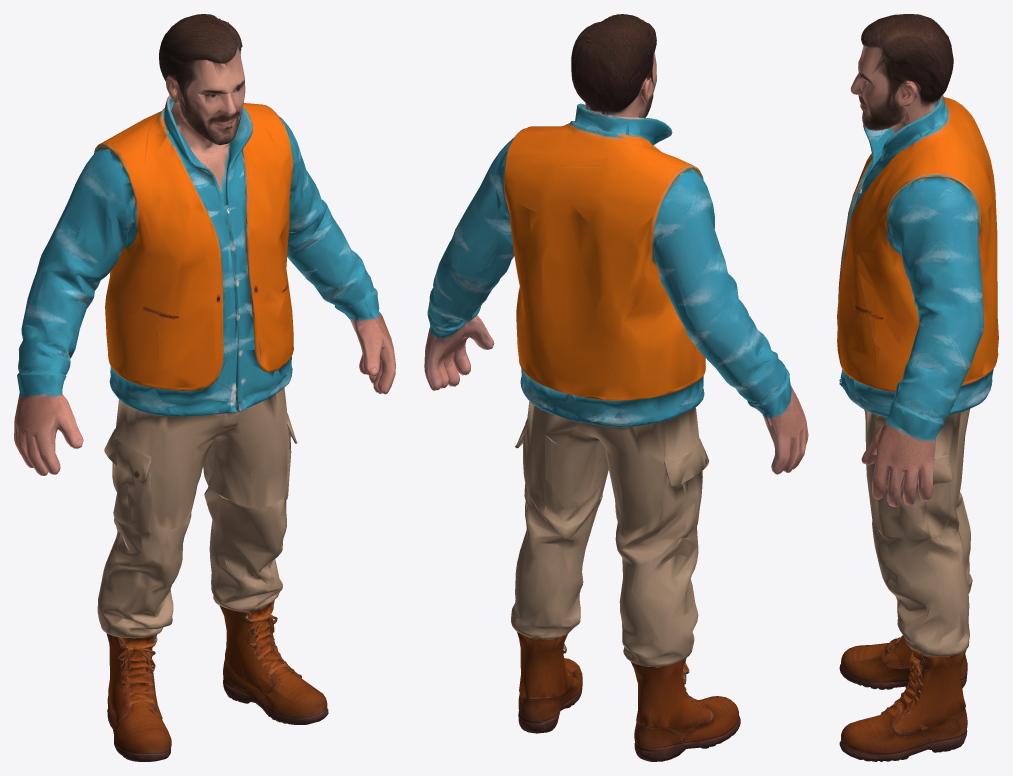
File: hunter-angler-blazevest.glb
The picture shows the model from 3 angles, left to right: view 1: azimuth 30°, elevation 25°; view 2: azimuth 150°, elevation 25°; view 3: azimuth 270°, elevation 25°; orthographic projection.
Size of the model in its own units: 1.09 by 2 by 0.42.
1 material, 1 textured.
